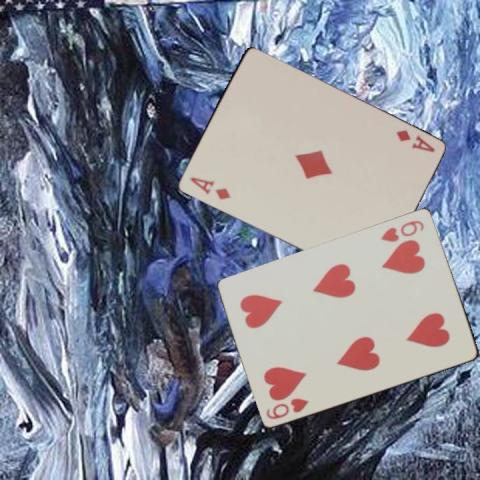6h: (378, 217, 426, 243), (263, 394, 311, 420)
Ad: (187, 174, 232, 201), (392, 127, 436, 154)
